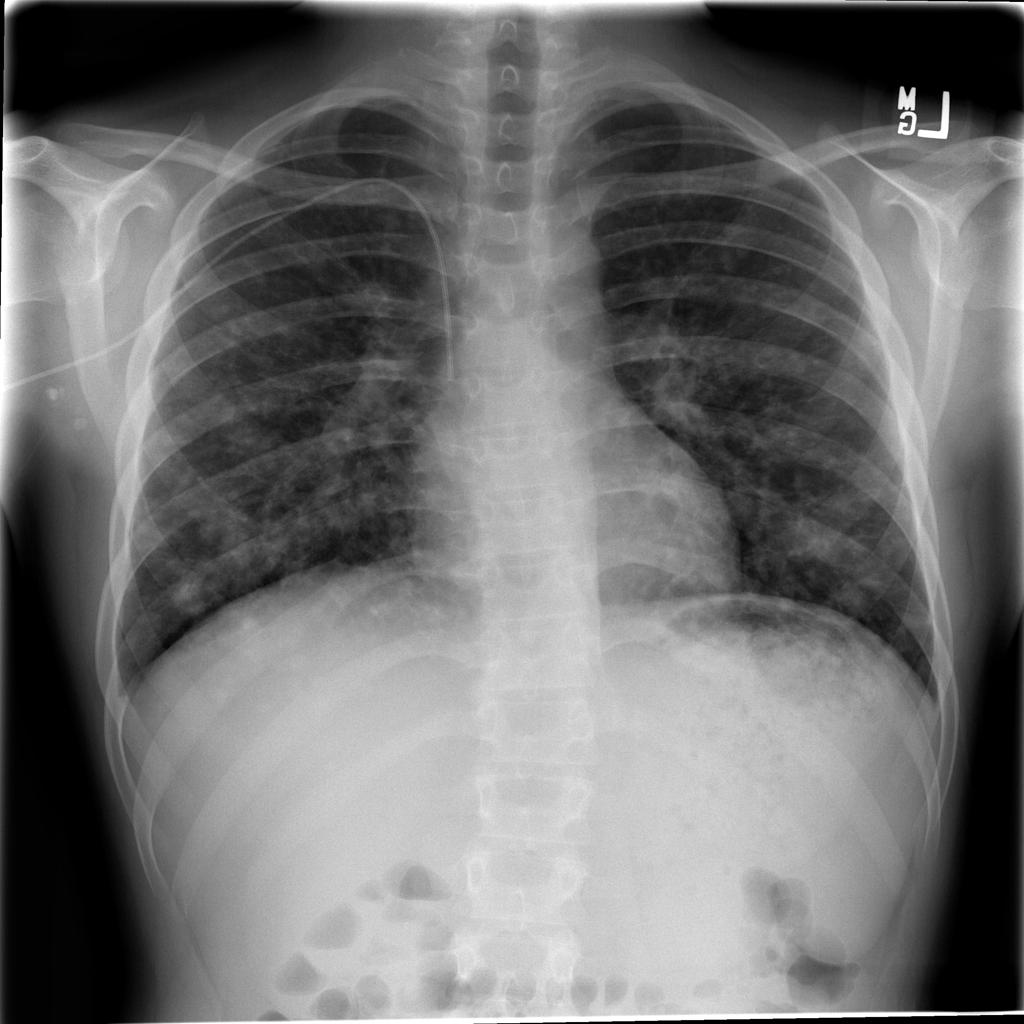nodule: (152, 557, 227, 627)
